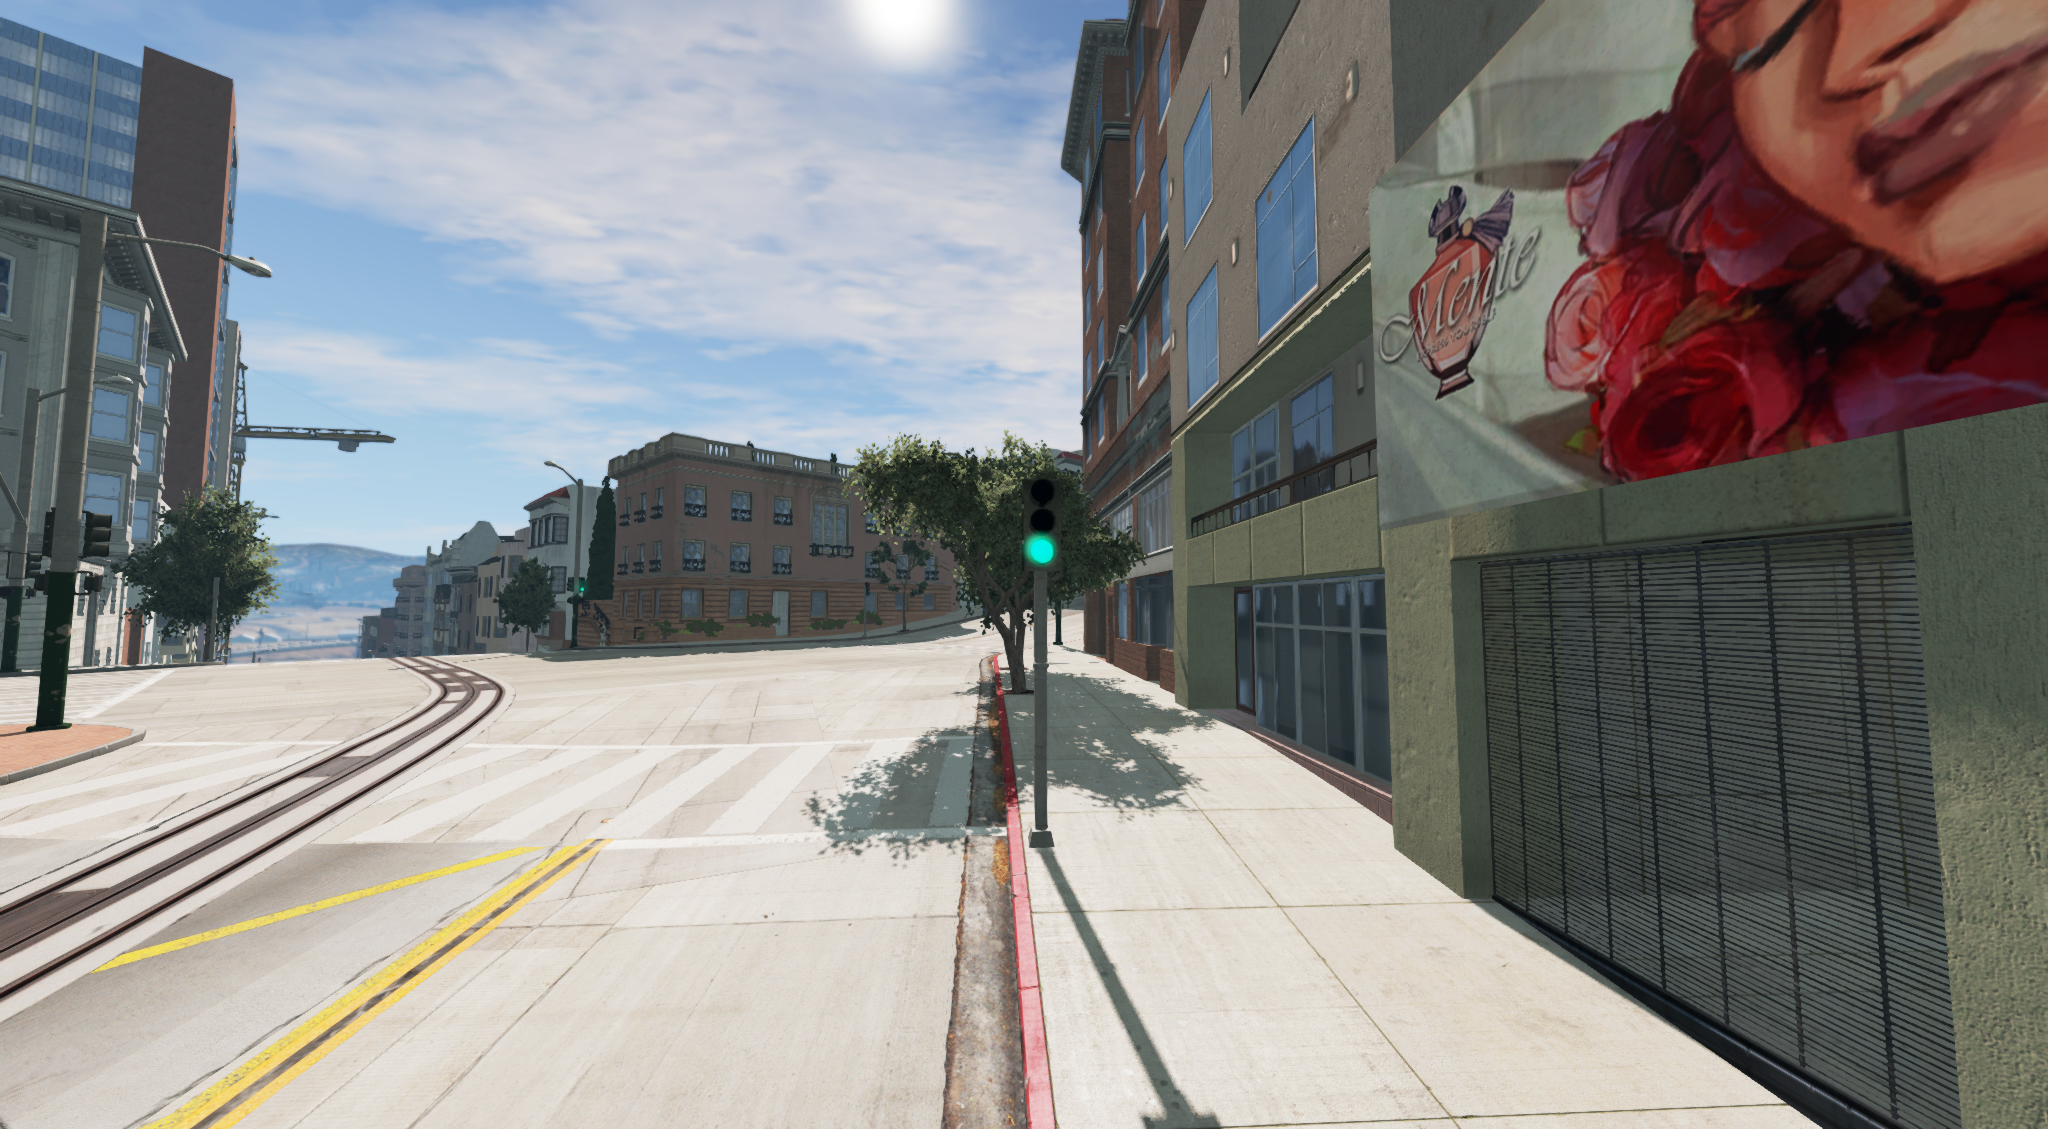green: (1019, 478, 1065, 576)
